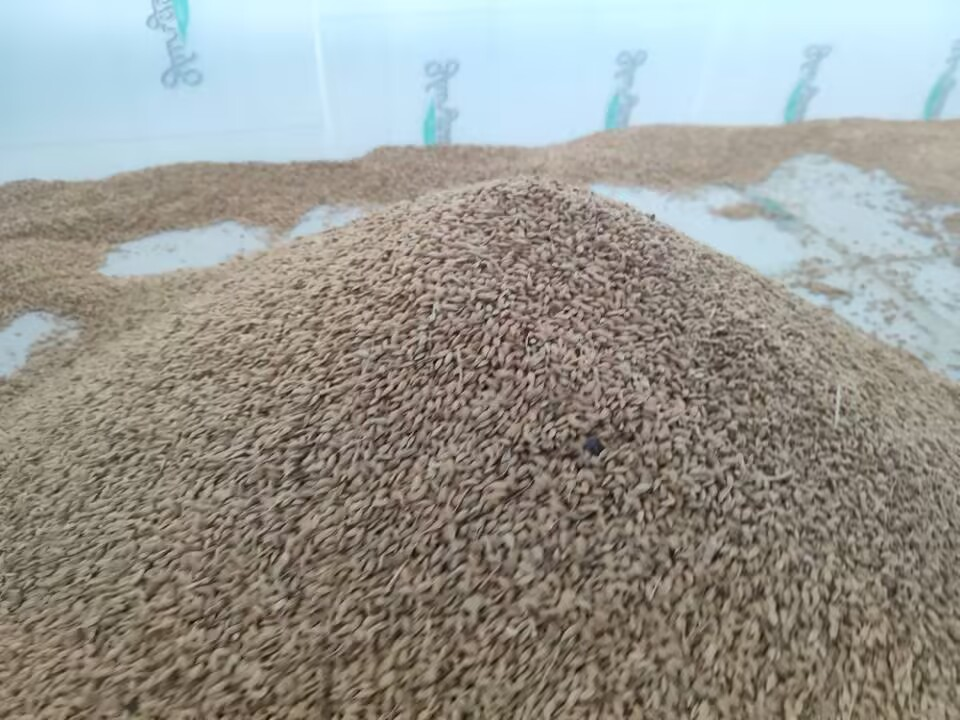Grain: (272, 170, 898, 679)
